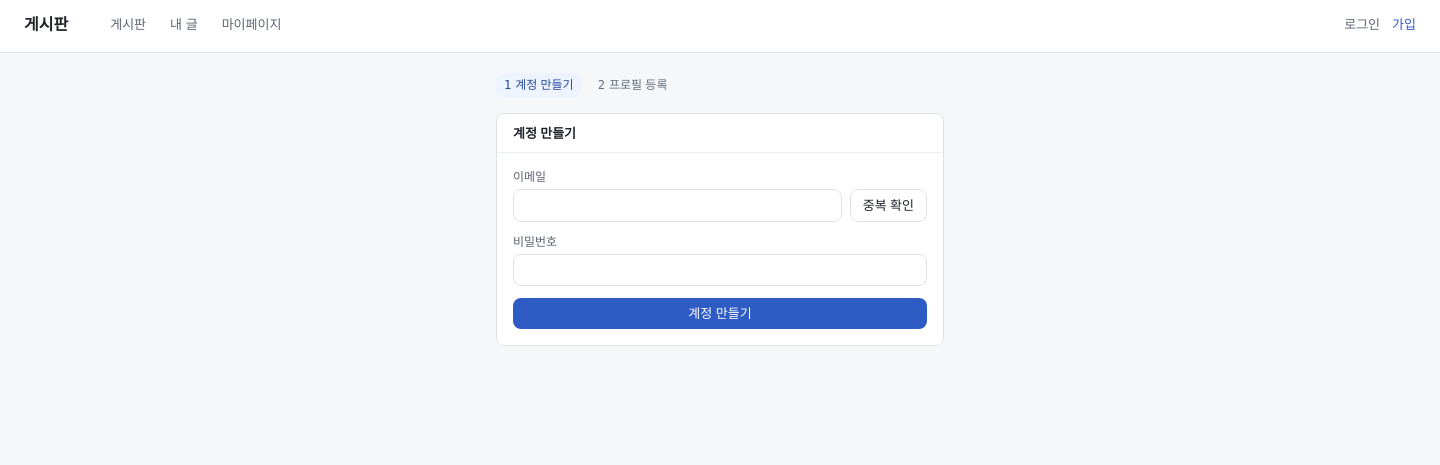
Test: 가입 › 계정을 만든 뒤 로그인이 실패하면(서버 오류 500 C005) — 로그인 화면으로 가고 계정을 만들었다는 것과 그 실패가 보인다
Type "new@example.com" into the field labelled "이메일" at coordinates (677, 205), box [513,189,842,222]
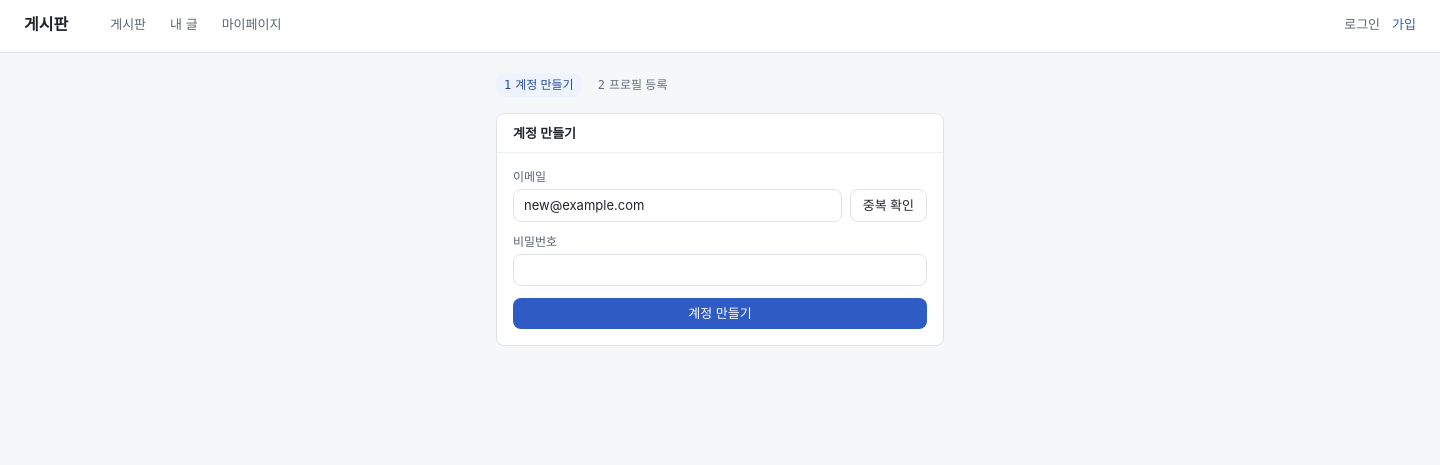
Type "Signup-Passw0rd!" into the password field labelled "비밀번호" at coordinates (720, 270), box [513,254,927,286]
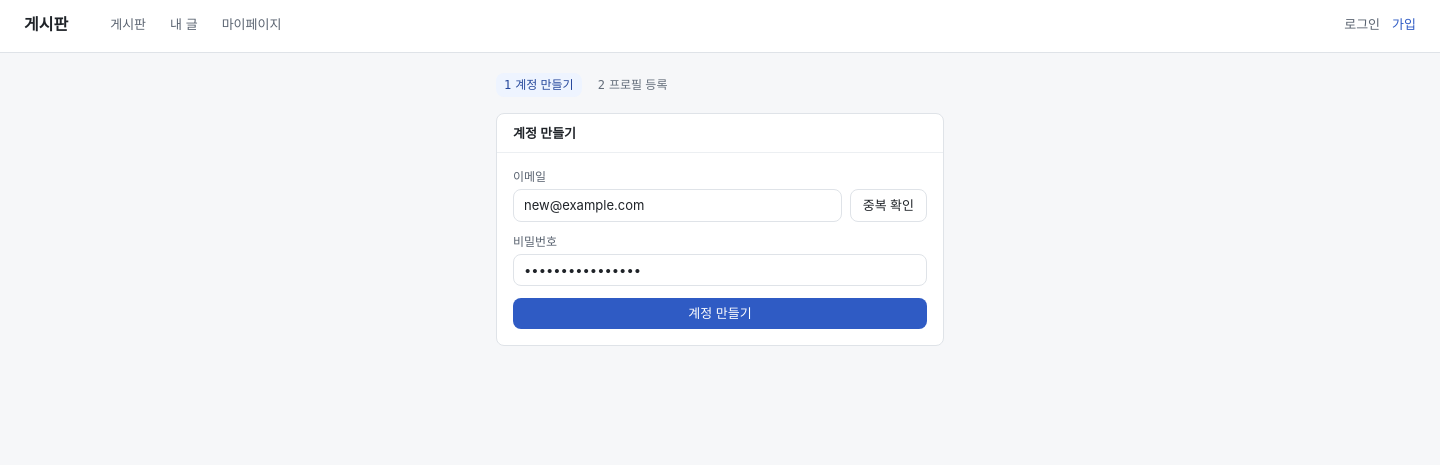
Submit the form, box [513,169,927,329]
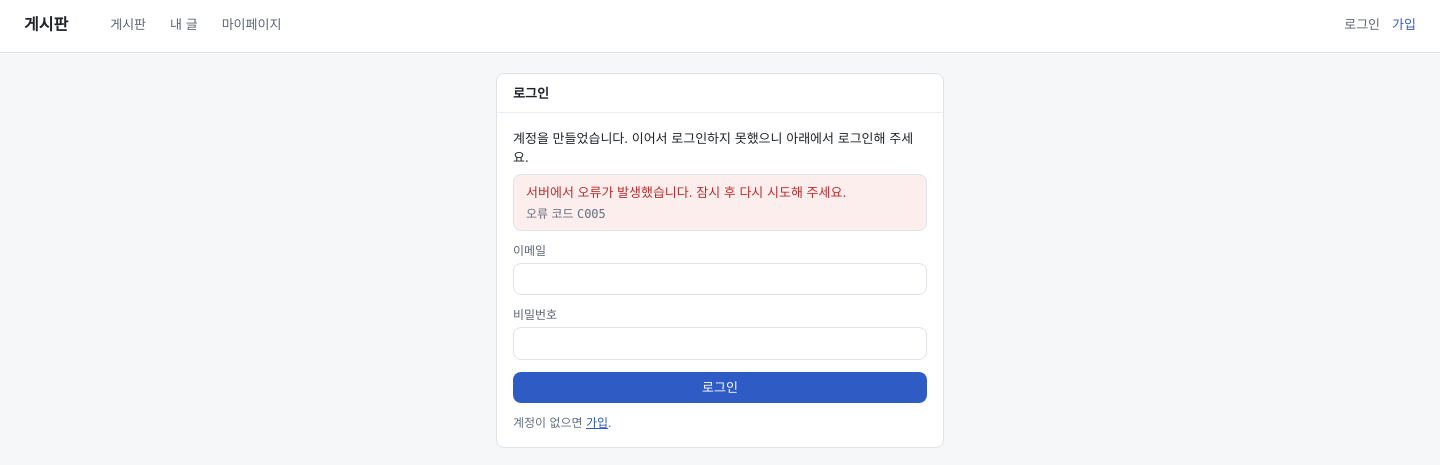
Check: the text "계정을 만들었습니다." is shown, box [513,130,913,165]
